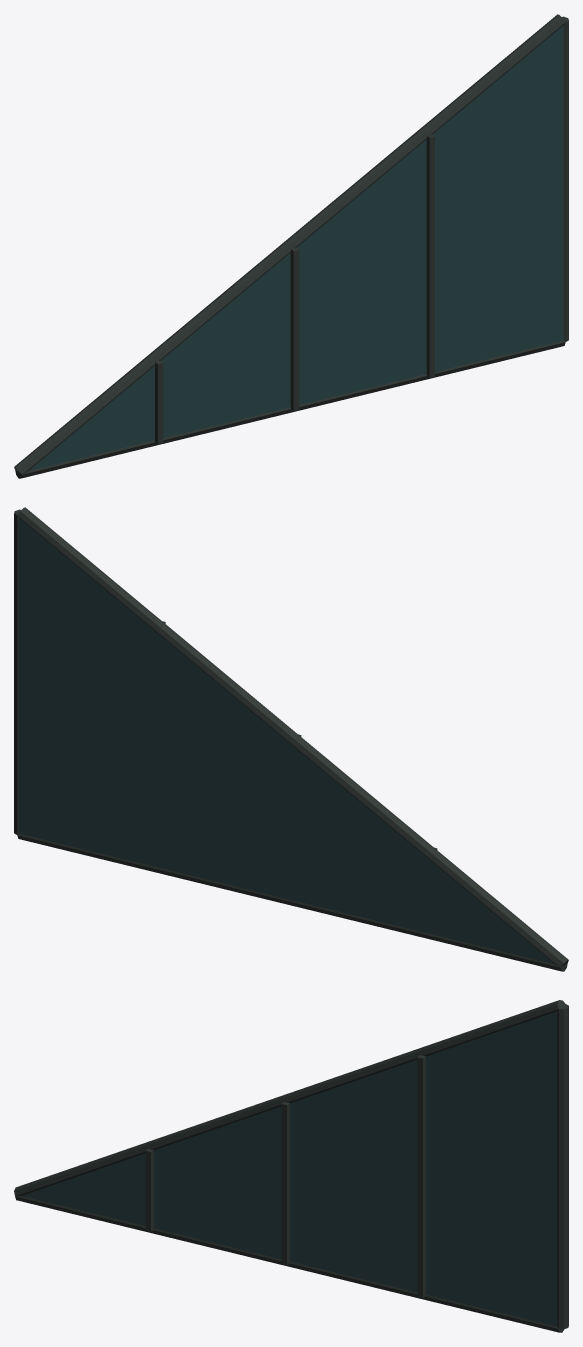
The model's file is hall_sawtooth_gable.glb.
3 views of the same model, one above another, from view 1: azimuth 30°, elevation 25°; view 2: azimuth 150°, elevation 25°; view 3: azimuth 330°, elevation 25° (orthographic).
Parts seen in each view (by area): view 1: gable; view 2: gable; view 3: gable.
Boxes of the visible parts, <box> form: gable: <box>14,14,568,478</box>; gable: <box>14,507,568,971</box>; gable: <box>14,1000,568,1332</box>.
Size of the model in its own units: 4.07 by 2.33 by 0.1225.
